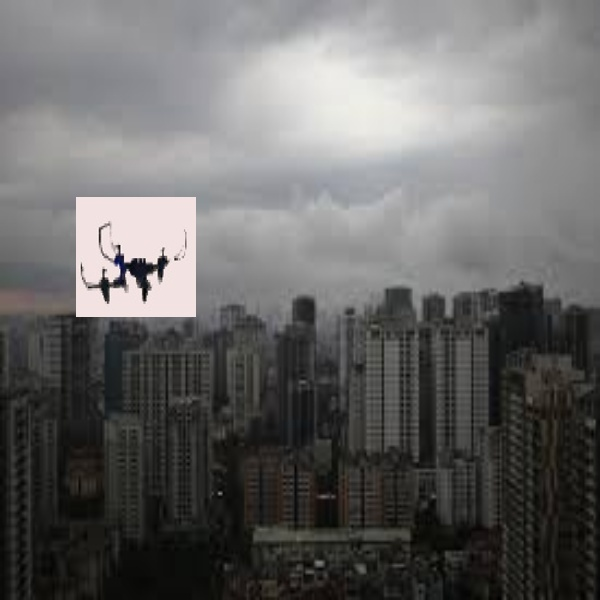drone: (77, 215, 192, 309)
